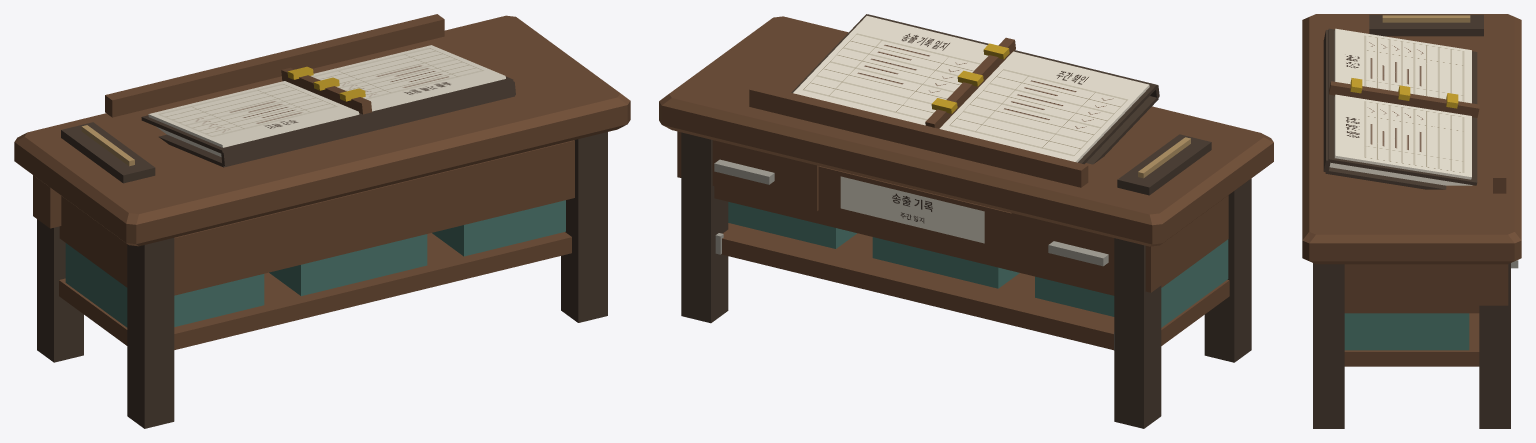
The model's file is W01_Broadcast_Logbook_Stand.fbx.
The picture shows the model from 3 angles, left to right: view 1: azimuth 30°, elevation 25°; view 2: azimuth 150°, elevation 25°; view 3: azimuth 270°, elevation 25°; orthographic projection. The views are drawn at different scales.
Parts seen in each view (by area): view 1: Structure, Logbook_Page; view 2: Structure, Logbook_Page; view 3: Structure, Logbook_Page.
Part boxes in pixels (x1=…): Structure: x1=14, y1=14, x2=630, y2=428; Logbook_Page: x1=141, y1=45, x2=515, y2=167; Structure: x1=659, y1=16, x2=1273, y2=428; Logbook_Page: x1=791, y1=14, x2=1159, y2=164; Structure: x1=1302, y1=14, x2=1521, y2=428; Logbook_Page: x1=1323, y1=28, x2=1479, y2=189.
Size of the model in its own units: 2.2 by 1.1 by 0.9.
Materials: 8 (1 with a texture image).
